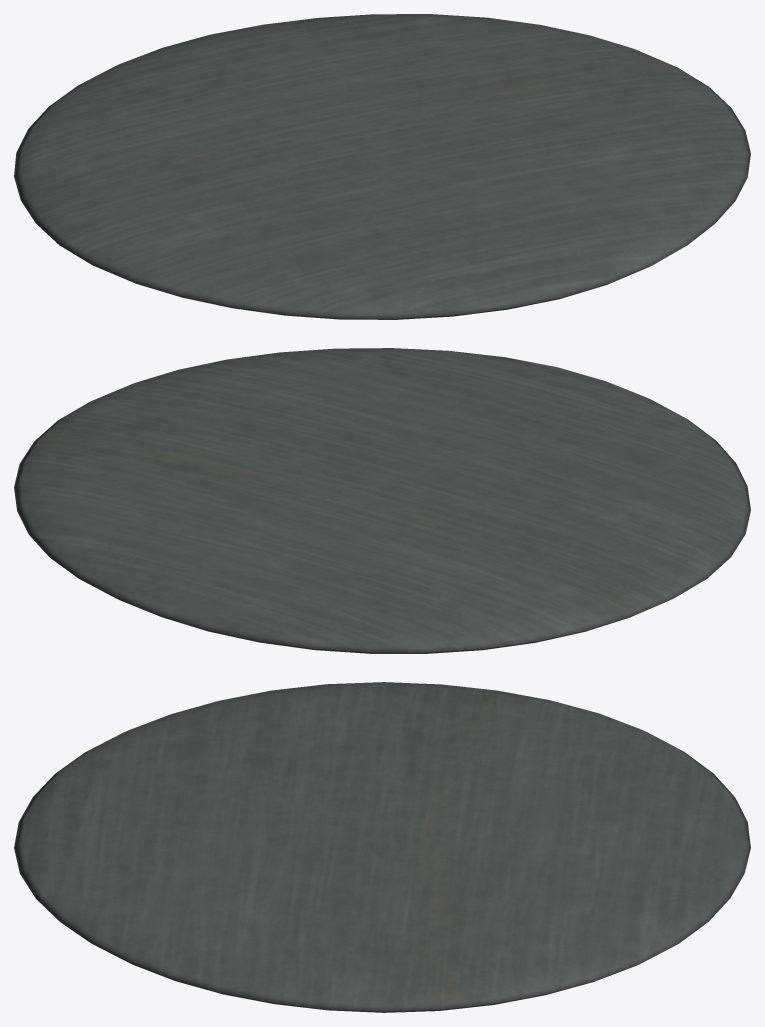
File: master_disc_07.glb
The picture shows the model from 3 angles, top to bottom: view 1: azimuth 30°, elevation 25°; view 2: azimuth 150°, elevation 25°; view 3: azimuth 270°, elevation 25°; orthographic projection. The views are drawn at different scales.
Visible parts, largest first — view 1: master_disc_07; view 2: master_disc_07; view 3: master_disc_07.
Part boxes in pixels (bbox=[...]): master_disc_07: bbox=[14, 14, 750, 319]; master_disc_07: bbox=[14, 348, 750, 653]; master_disc_07: bbox=[14, 682, 750, 1012].
Bounding box in the file's own units: 0.0949 × 0.00616 × 0.0901.
1 material, 1 textured.
